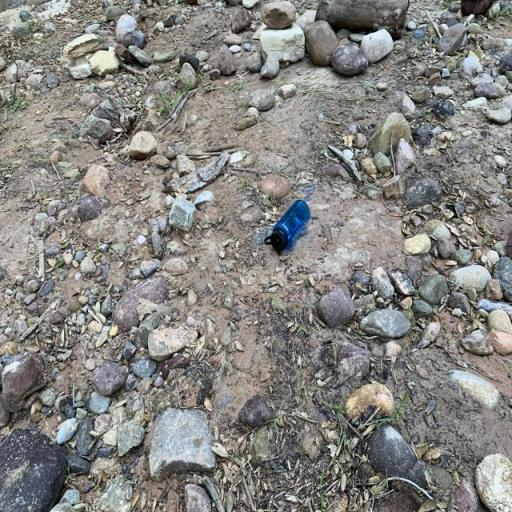bottle: (264, 200, 311, 252)
